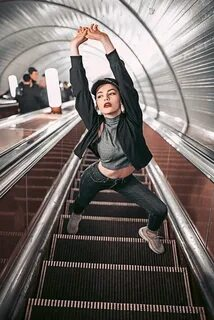awake: (66, 25, 168, 255)
